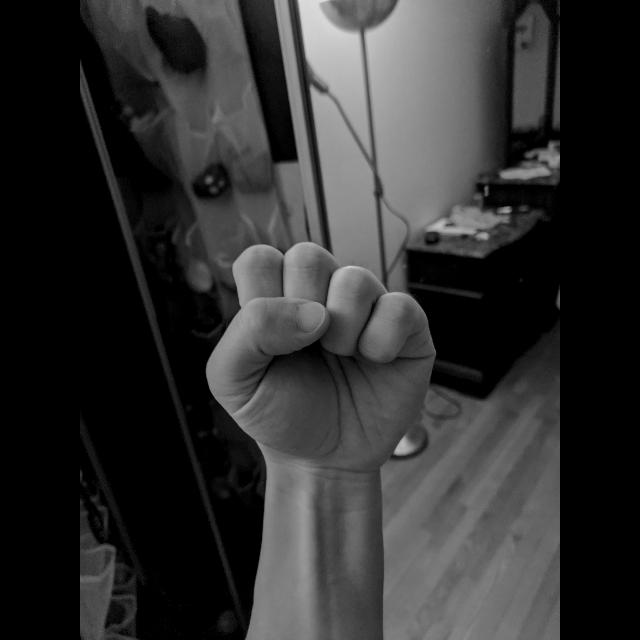S: (201, 240, 443, 482)
